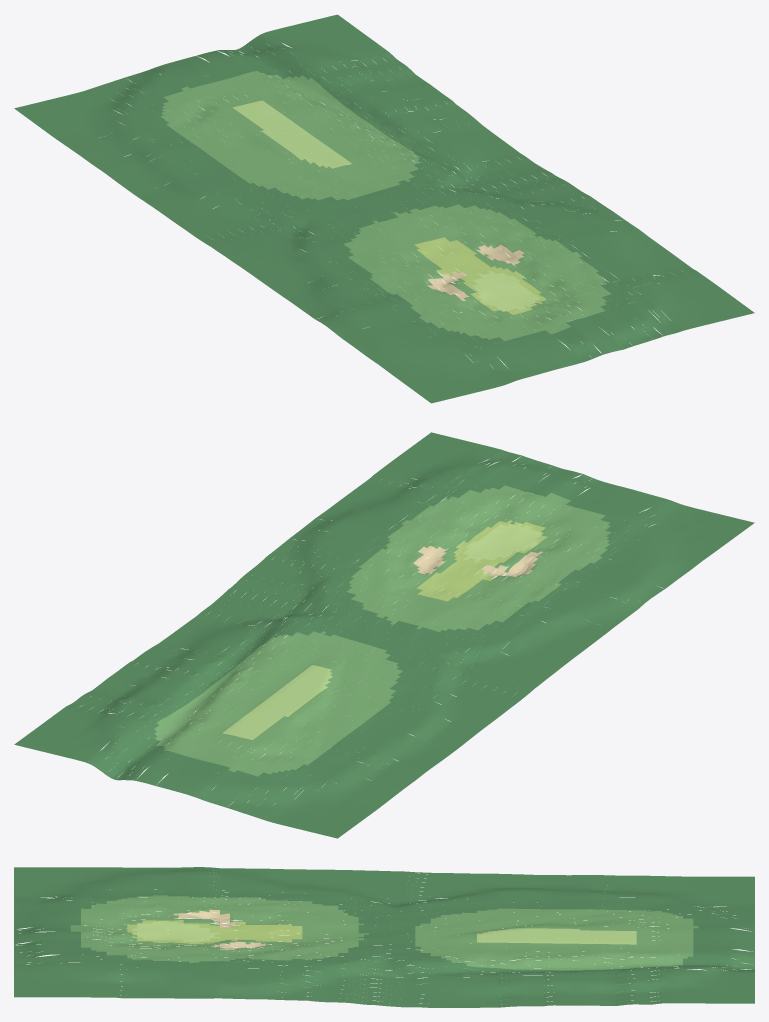
The picture shows the model from 3 angles, top to bottom: view 1: azimuth 30°, elevation 25°; view 2: azimuth 150°, elevation 25°; view 3: azimuth 270°, elevation 25°; orthographic projection. The views are drawn at different scales.
Visible parts, largest first — view 1: terrain; view 2: terrain; view 3: terrain.
Part boxes in pixels (left/top/right/bottom): terrain: left=14, top=14, right=754, bottom=403; terrain: left=14, top=432, right=754, bottom=838; terrain: left=14, top=867, right=754, bottom=1007.
Bounding box in the file's own units: 122 × 9.49 × 272.
